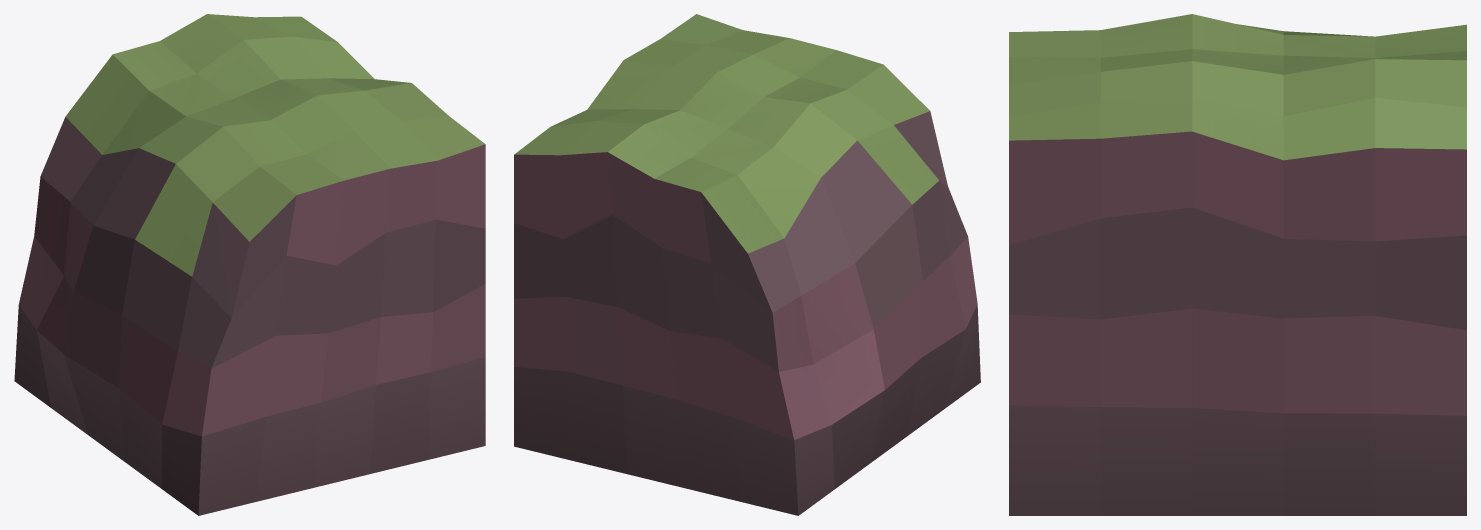
Rendered from roca_te_2.glb.
3 views of the same model, side by side, from view 1: azimuth 30°, elevation 25°; view 2: azimuth 150°, elevation 25°; view 3: azimuth 270°, elevation 25° (orthographic). The views are drawn at different scales.
Parts seen in each view (by area): view 1: propforge-cuartos-roca_te; view 2: propforge-cuartos-roca_te; view 3: propforge-cuartos-roca_te.
Part boxes in pixels (x1,y1,x2,y2): propforge-cuartos-roca_te: (14, 14, 485, 515); propforge-cuartos-roca_te: (514, 14, 980, 515); propforge-cuartos-roca_te: (1009, 14, 1466, 515).
Bounding box in the file's own units: 0.959 × 0.9627 × 1.
